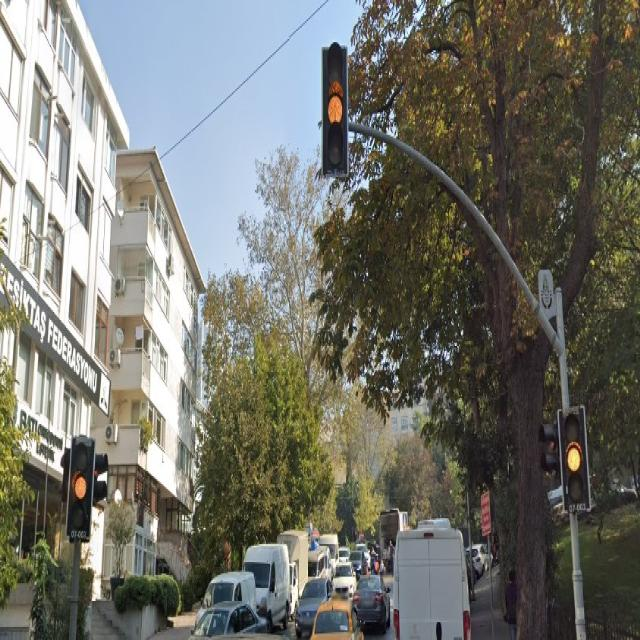sari: (557, 404, 591, 512), (322, 47, 348, 176), (66, 435, 96, 546)
